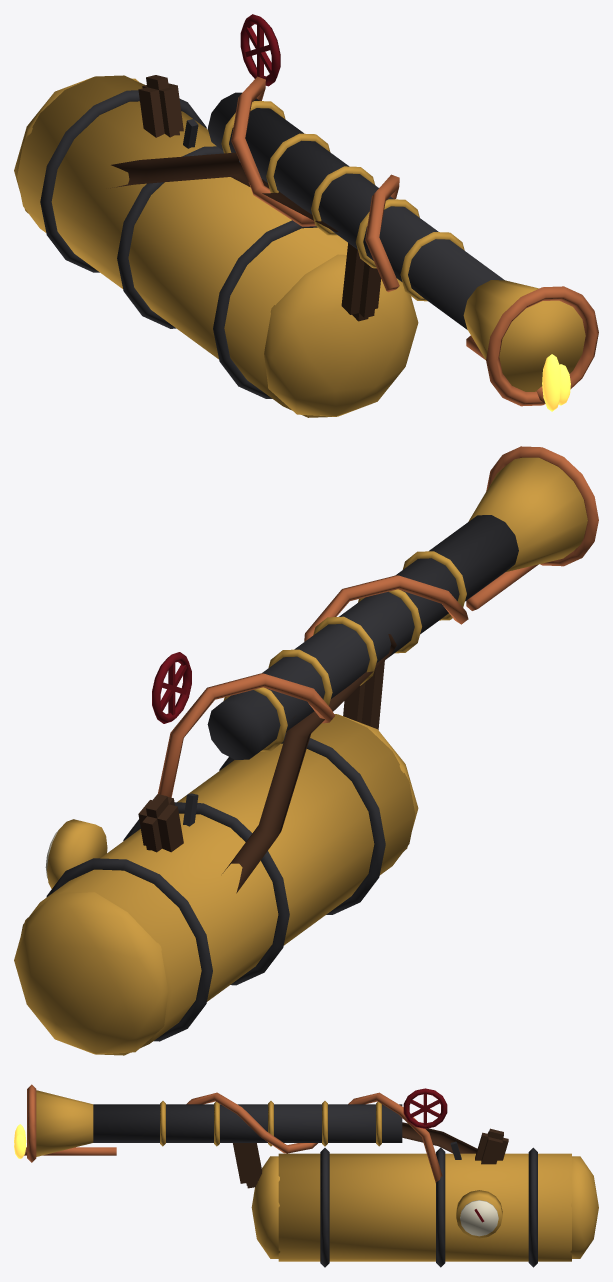
File: gothic-flamethrower.glb
The picture shows the model from 3 angles, top to bottom: view 1: azimuth 30°, elevation 25°; view 2: azimuth 150°, elevation 25°; view 3: azimuth 270°, elevation 25°; orthographic projection. The views are drawn at different scales.
Parts seen in each view (by area): view 1: Model Mesh, Spin+ Valve Mesh, Flame 0 Mesh; view 2: Model Mesh, Spin+ Valve Mesh; view 3: Model Mesh, Spin+ Valve Mesh.
Part boxes in pixels (box(x1,y1,x2,y2)): Model Mesh: box(14, 75, 598, 417); Spin+ Valve Mesh: box(240, 14, 280, 86); Flame 0 Mesh: box(542, 354, 561, 411); Model Mesh: box(14, 446, 598, 1055); Spin+ Valve Mesh: box(152, 652, 191, 723); Model Mesh: box(24, 1084, 598, 1267); Spin+ Valve Mesh: box(403, 1088, 447, 1128).
Bounding box in the file's own units: 0.179 × 0.267 × 0.758.
